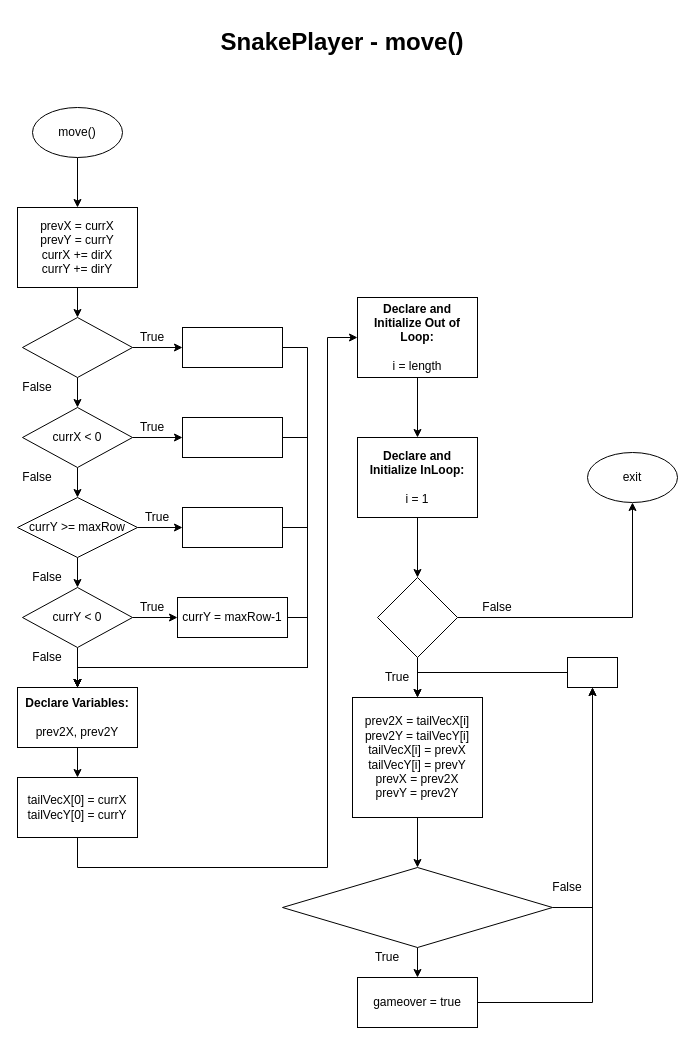
Some shapes in this 695 by 1045 pixel diagram are drawn without their labels. The shapes that lost their labels are listed below. From the top down, each one's centre as x and y in pixels, then its label:
At (77,347): "currX >= maxCol".
At (232,347): "currX = 0".
At (232,437): "currX = maxCol-1".
At (232,527): "currY = 0".
At (417,617): "i < length".
At (592,672): "++i".
At (417,907): "tailVecX[i] == currX && tailVecY[i] == currY".
